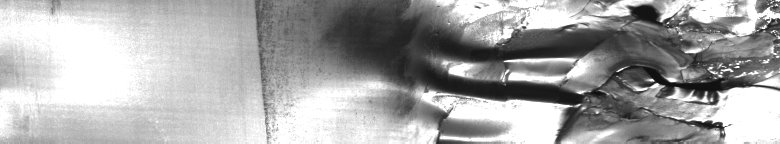ke: (380, 4, 776, 136)
